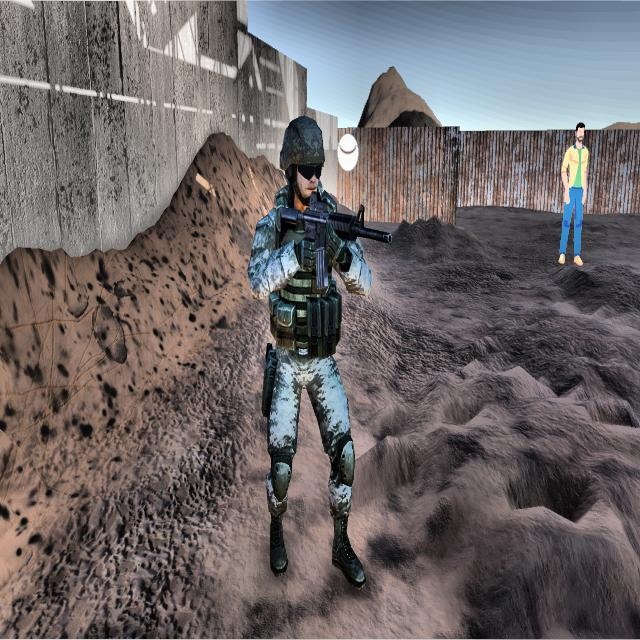bad: (236, 94, 388, 613)
good: (551, 105, 596, 289)
